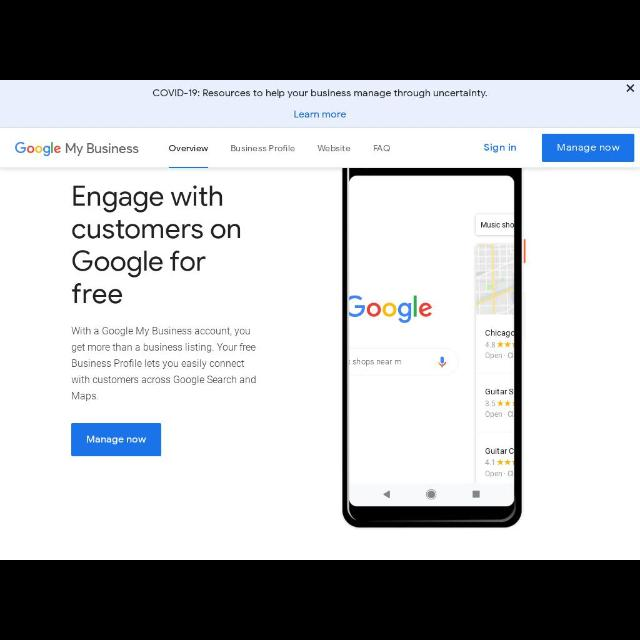icon: (627, 84, 633, 90)
image: (344, 168, 522, 528), (14, 140, 62, 156)
text: (74, 183, 242, 305), (70, 326, 258, 400), (155, 88, 488, 100), (67, 142, 139, 156), (558, 143, 622, 155), (86, 434, 148, 446), (292, 110, 348, 122), (232, 145, 296, 155), (319, 144, 351, 154), (484, 144, 516, 154), (169, 145, 207, 153), (374, 144, 388, 152)
textbutton: (72, 422, 162, 454), (542, 134, 634, 162)
toolbar: (1, 128, 639, 170)
